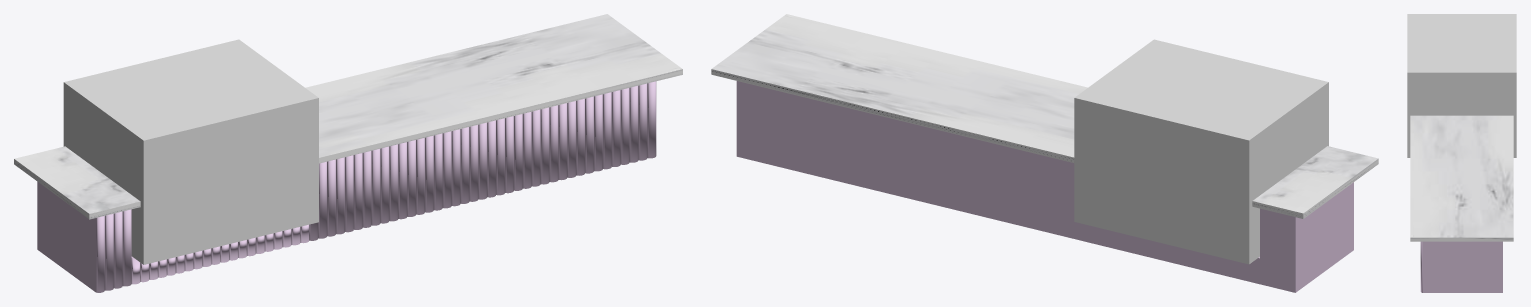
Rendered from counter.fbx.
3 views of the same model, side by side, from view 1: azimuth 30°, elevation 25°; view 2: azimuth 150°, elevation 25°; view 3: azimuth 270°, elevation 25° (orthographic). The views are drawn at different scales.
Parts seen in each view (by area): view 1: case, counter, base.002, base, base.001; view 2: case, counter, base.002, base, base.001; view 3: counter, case, base.002.
Part boxes in pixels (x1=…): case: x1=63, y1=39, x2=318, y2=264; counter: x1=14, y1=14, x2=682, y2=219; base.002: x1=309, y1=81, x2=656, y2=240; base: x1=37, y1=181, x2=131, y2=292; base.001: x1=131, y1=224, x2=309, y2=284; case: x1=1074, y1=39, x2=1328, y2=264; counter: x1=711, y1=14, x2=1378, y2=218; base.002: x1=736, y1=81, x2=1082, y2=240; base: x1=1260, y1=182, x2=1353, y2=292; base.001: x1=1082, y1=224, x2=1260, y2=284; counter: x1=1410, y1=115, x2=1513, y2=241; case: x1=1407, y1=14, x2=1516, y2=157; base.002: x1=1420, y1=241, x2=1502, y2=292.
Size of the model in its own units: 5213 by 1270 by 1217.
